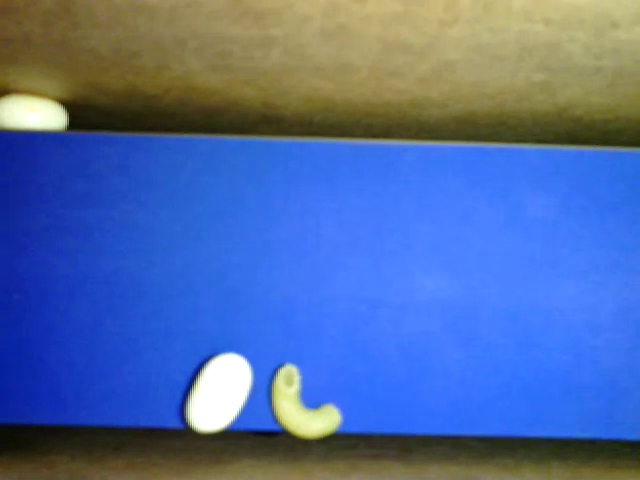elbow: (269, 362, 343, 439)
